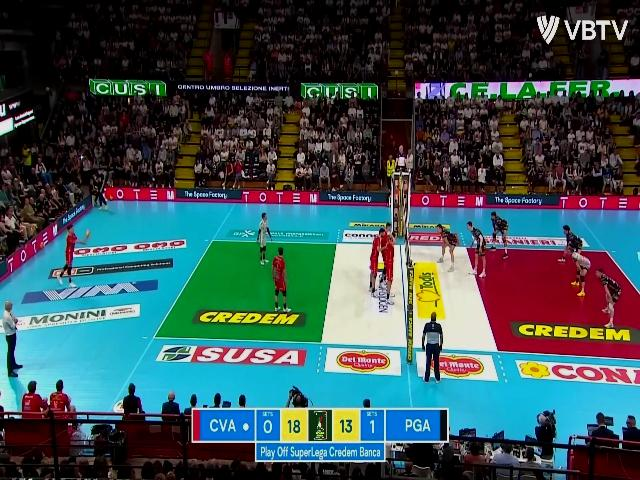volleyball court: (156, 239, 639, 362)
